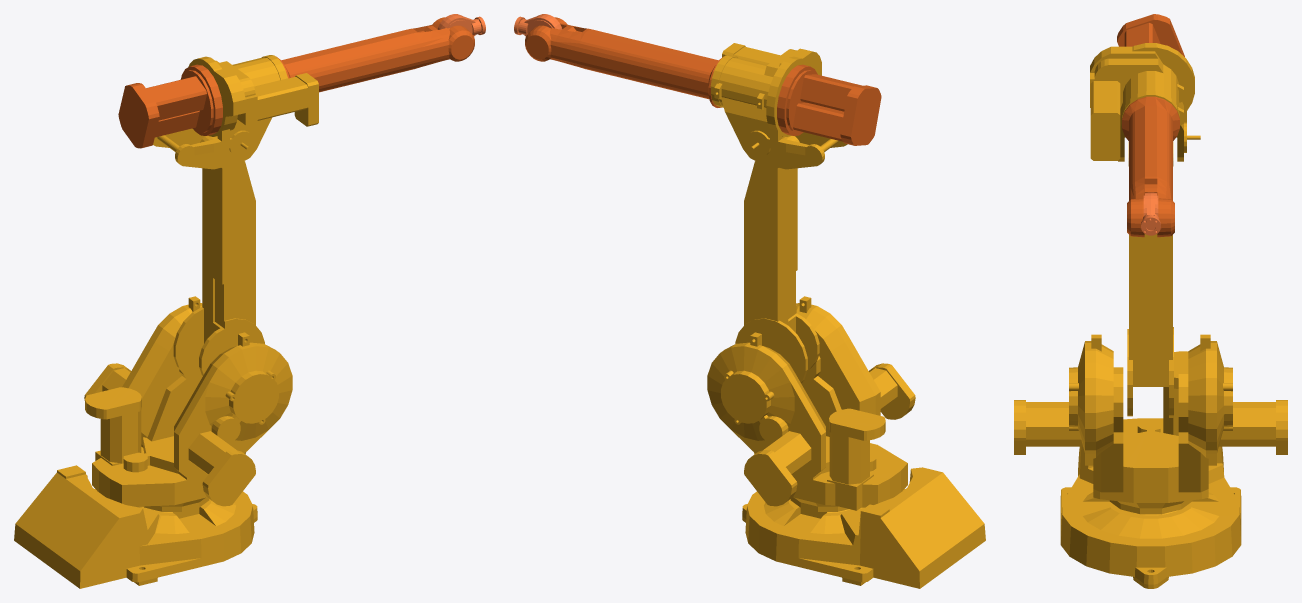
Rendered from 1410_dae7_rounded.dae.
3 views of the same model, side by side, from view 1: azimuth 30°, elevation 25°; view 2: azimuth 150°, elevation 25°; view 3: azimuth 270°, elevation 25° (orthographic). The views are drawn at different scales.
Visible parts, largest first — view 1: link_1, base_link, link_4, link_2, link_3; view 2: link_1, base_link, link_4, link_2, link_3; view 3: link_1, base_link, link_3, link_4, link_2, link_5.
Part boxes in pixels (<box>): link_1: <box>84,296,292,511</box>; base_link: <box>14,465,257,588</box>; link_4: <box>118,17,474,148</box>; link_2: <box>173,136,264,380</box>; link_3: <box>153,55,318,169</box>; link_1: <box>707,296,915,511</box>; base_link: <box>742,467,985,588</box>; link_4: <box>525,17,881,145</box>; link_2: <box>735,136,819,383</box>; link_3: <box>710,43,847,169</box>; link_1: <box>1014,334,1287,514</box>; base_link: <box>1060,446,1241,588</box>; link_3: <box>1090,43,1200,161</box>; link_4: <box>1117,14,1184,237</box>; link_2: <box>1127,142,1173,417</box>; link_5: <box>1142,192,1159,231</box>.
Size of the model in its own units: 1.38 by 0.682 by 1.42.
